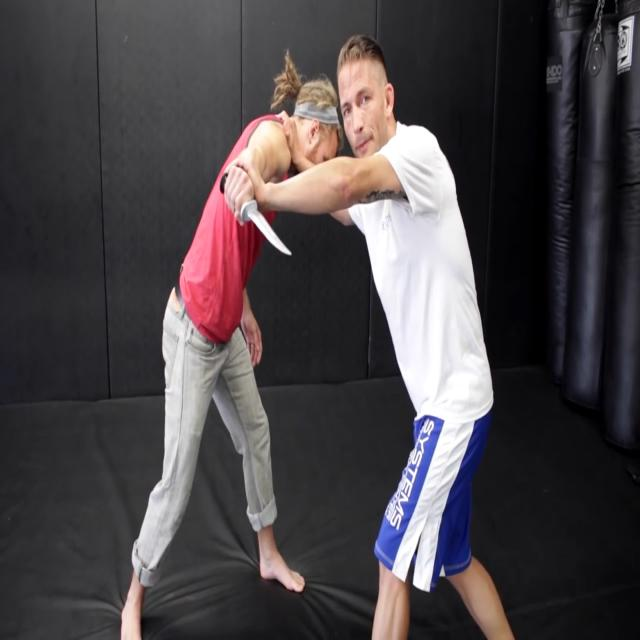knife: (245, 200, 297, 261)
